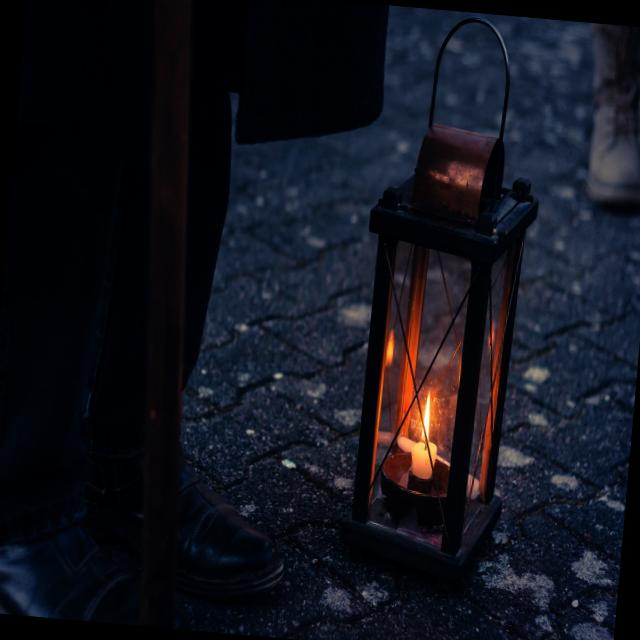Fire_Save: (407, 389, 443, 482)
